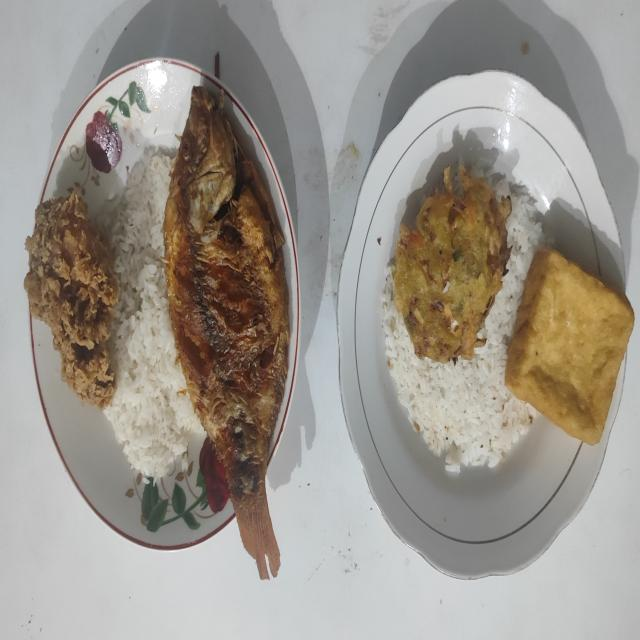ikan_mujair: (163, 87, 289, 579)
nasi_putih: (381, 180, 541, 472), (104, 149, 203, 480)
tahu_goreng: (505, 250, 634, 444)
